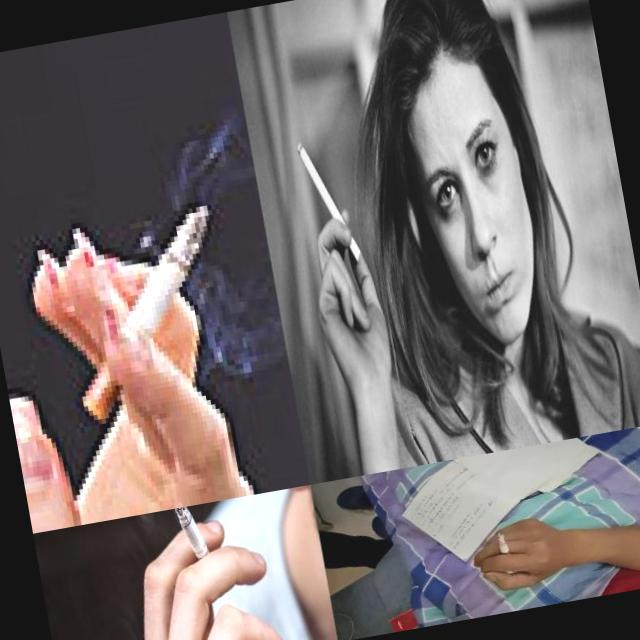cigarette: (51, 200, 245, 425), (296, 134, 362, 269), (174, 502, 217, 580), (496, 531, 512, 560)
